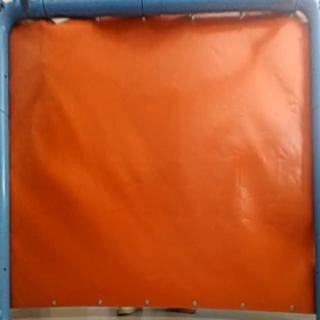Hit-hRxx: (36, 58, 52, 70)
